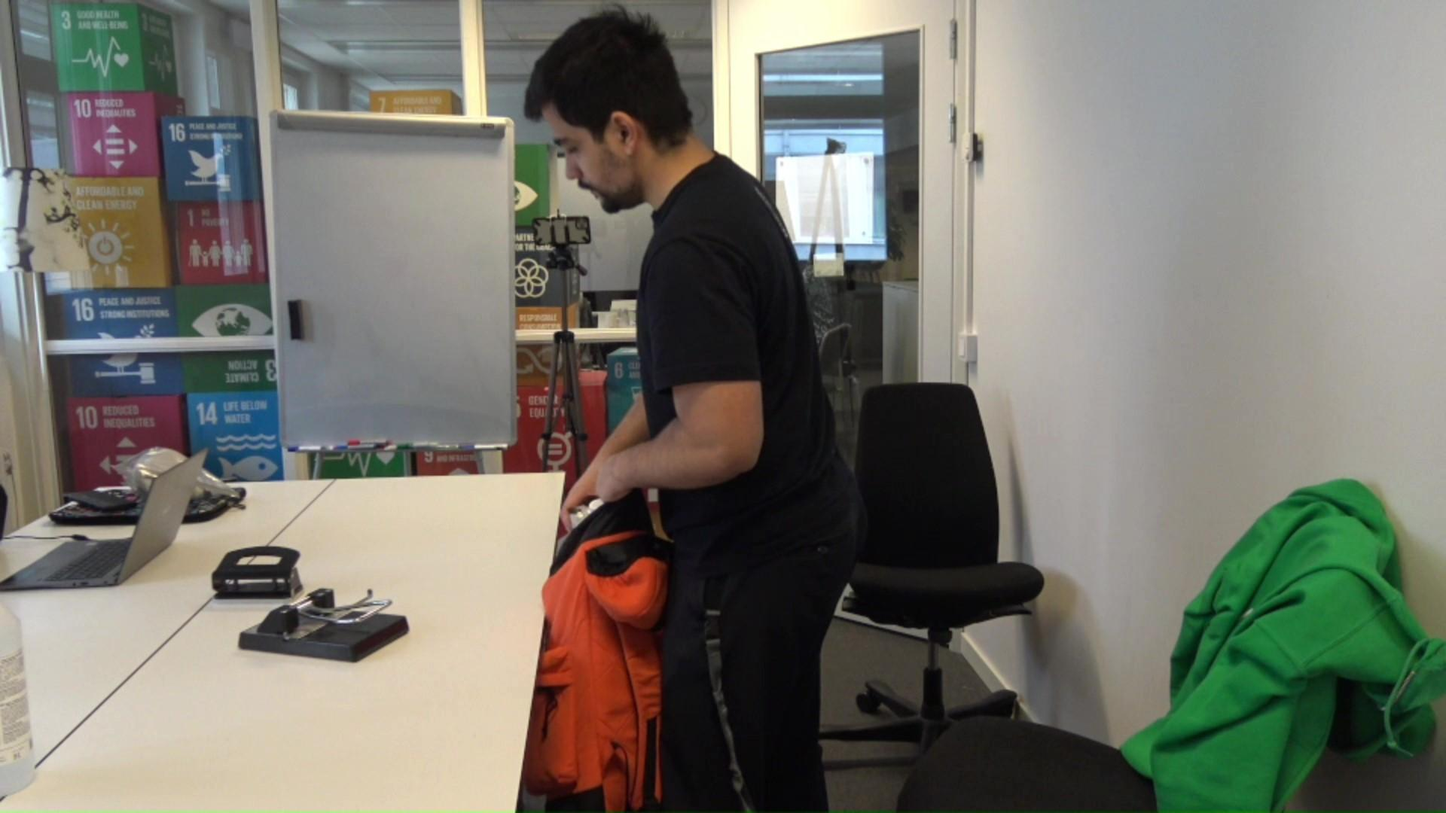shoplifting: (529, 14, 864, 813)
